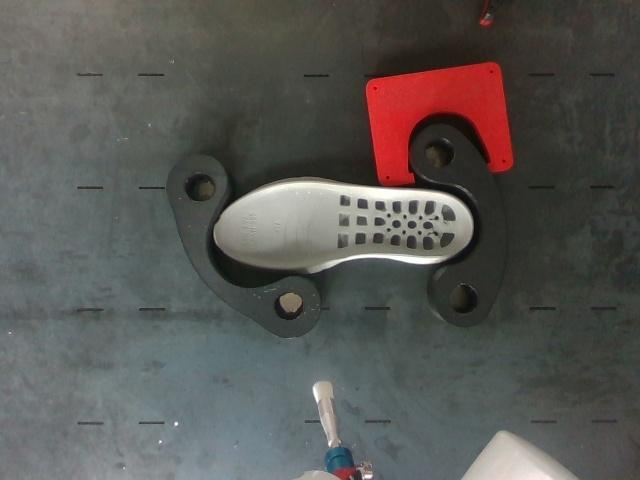shoes: (215, 182, 472, 268)
